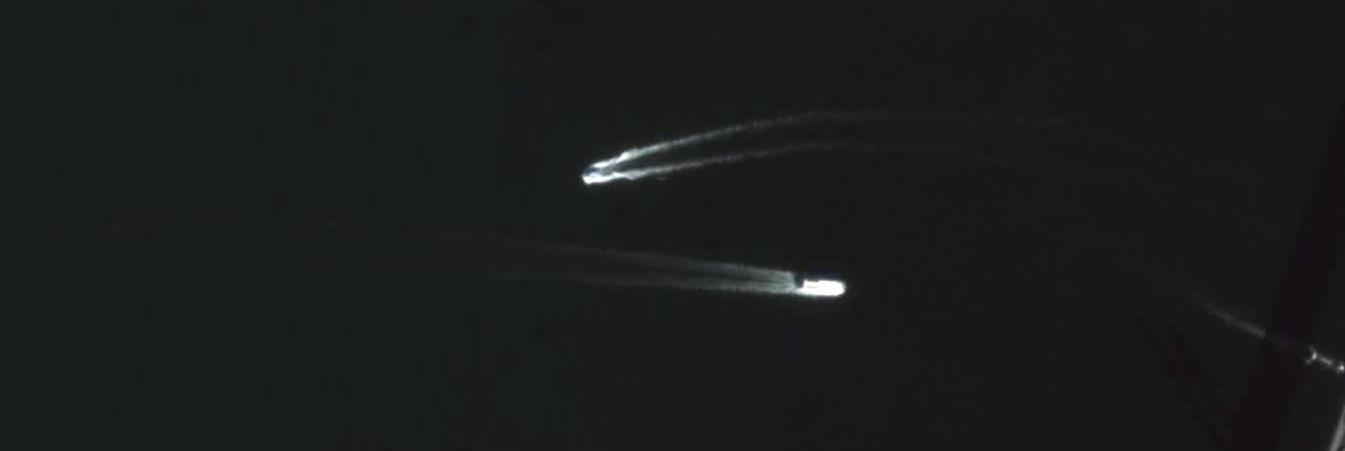person: (803, 278, 845, 296), (583, 164, 611, 177)
